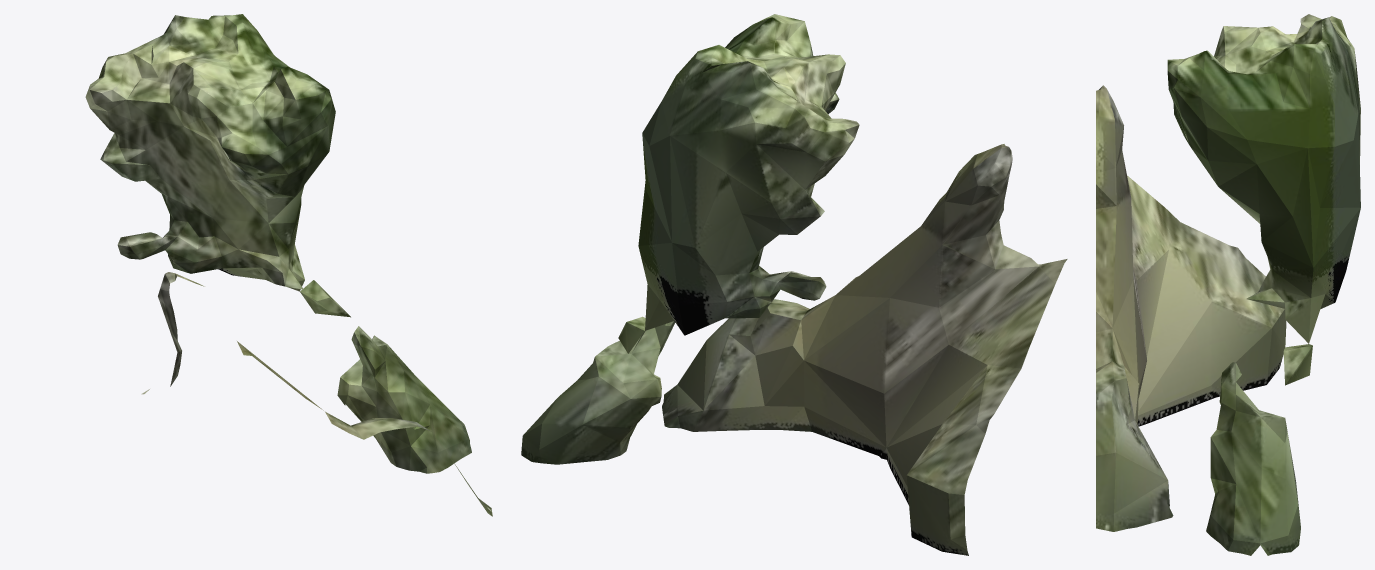
The picture shows the model from 3 angles, left to right: view 1: azimuth 30°, elevation 25°; view 2: azimuth 150°, elevation 25°; view 3: azimuth 270°, elevation 25°; orthographic projection. The views are drawn at different scales.
Size of the model in its own units: 5.9 by 5.88 by 3.33.
3 materials, 3 textured.
